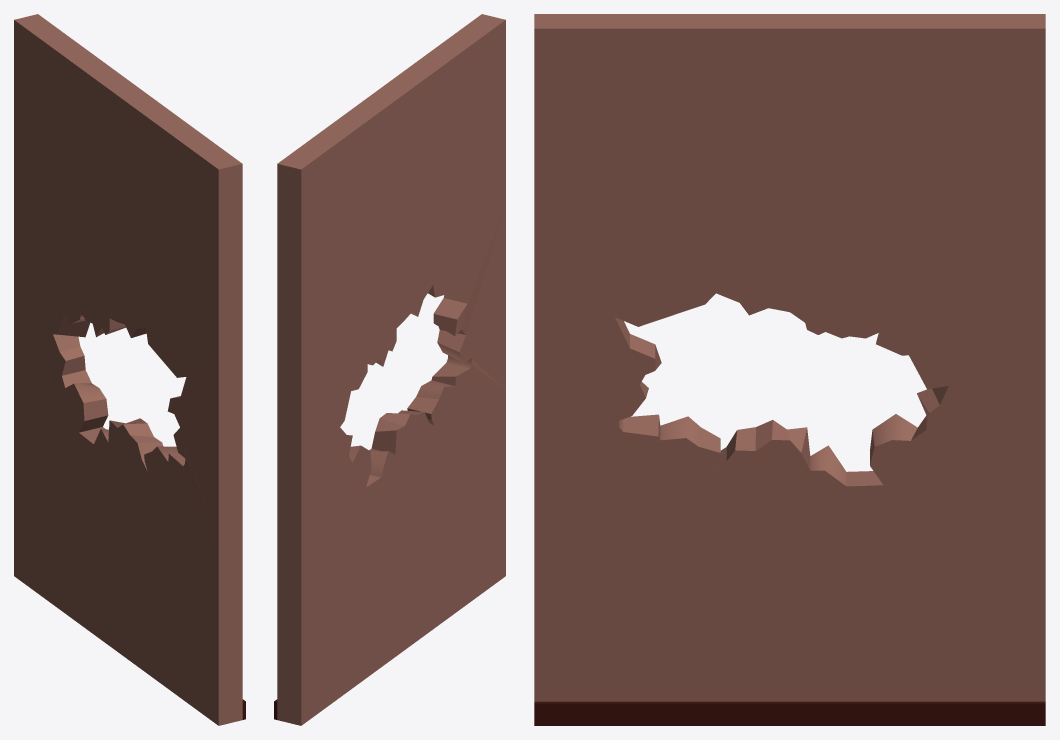
File: T_MurDetruit_05.fbx
3 views of the same model, side by side, from view 1: azimuth 30°, elevation 25°; view 2: azimuth 150°, elevation 25°; view 3: azimuth 270°, elevation 25° (orthographic). The views are drawn at different scales.
Parts seen in each view (by area): view 1: T_MurDetruit_05; view 2: T_MurDetruit_05; view 3: T_MurDetruit_05.
Boxes of the visible parts, x1,y1,x2,y2 form: T_MurDetruit_05: (14,14,245,725); T_MurDetruit_05: (274,14,505,725); T_MurDetruit_05: (534,14,1045,725).
Size of the model in its own units: 15.31 by 300 by 200.
